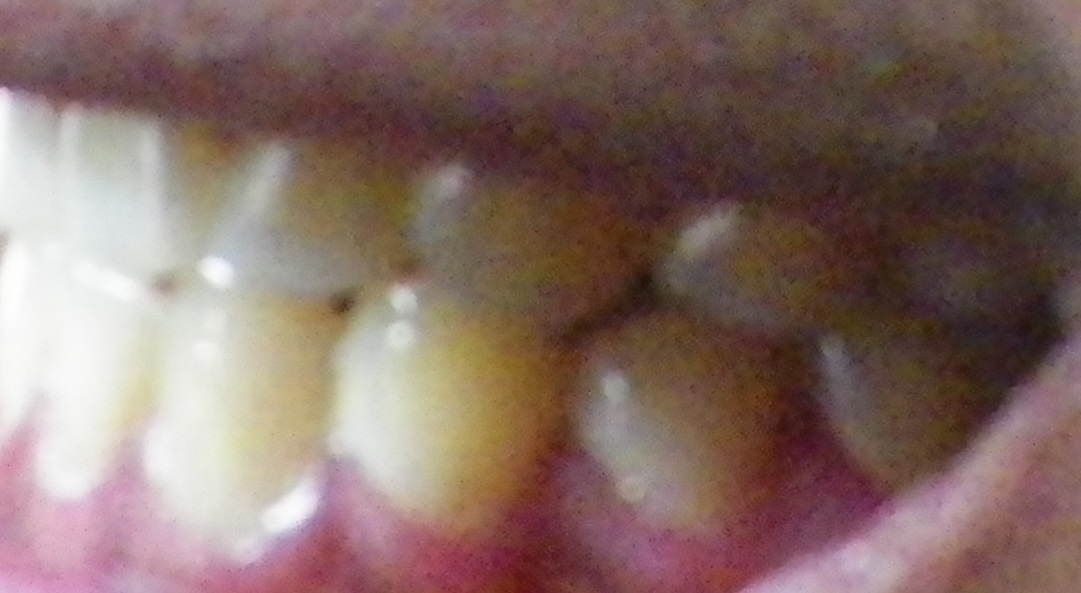boca: (5, 93, 962, 524)
